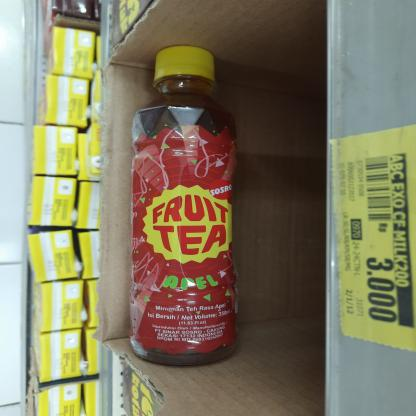bottle: (125, 43, 244, 368)
